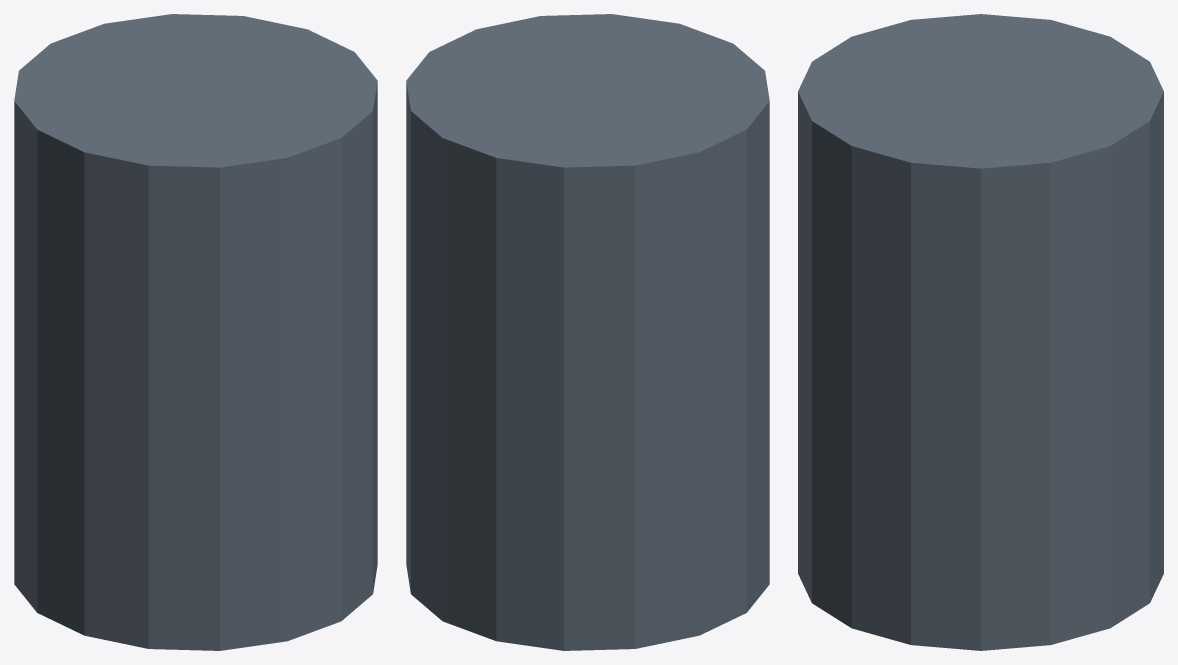
File: Column12.fbx
3 views of the same model, side by side, from view 1: azimuth 30°, elevation 25°; view 2: azimuth 150°, elevation 25°; view 3: azimuth 270°, elevation 25° (orthographic).
Parts seen in each view (by area): view 1: Column12; view 2: Column12; view 3: Column12.
Boxes of the visible parts, left/top/right/bottom form: Column12: left=14, top=14, right=377, bottom=650; Column12: left=406, top=14, right=769, bottom=650; Column12: left=798, top=14, right=1163, bottom=650.
Bounding box in the file's own units: 44 × 64 × 44.
1 material, 1 textured.
